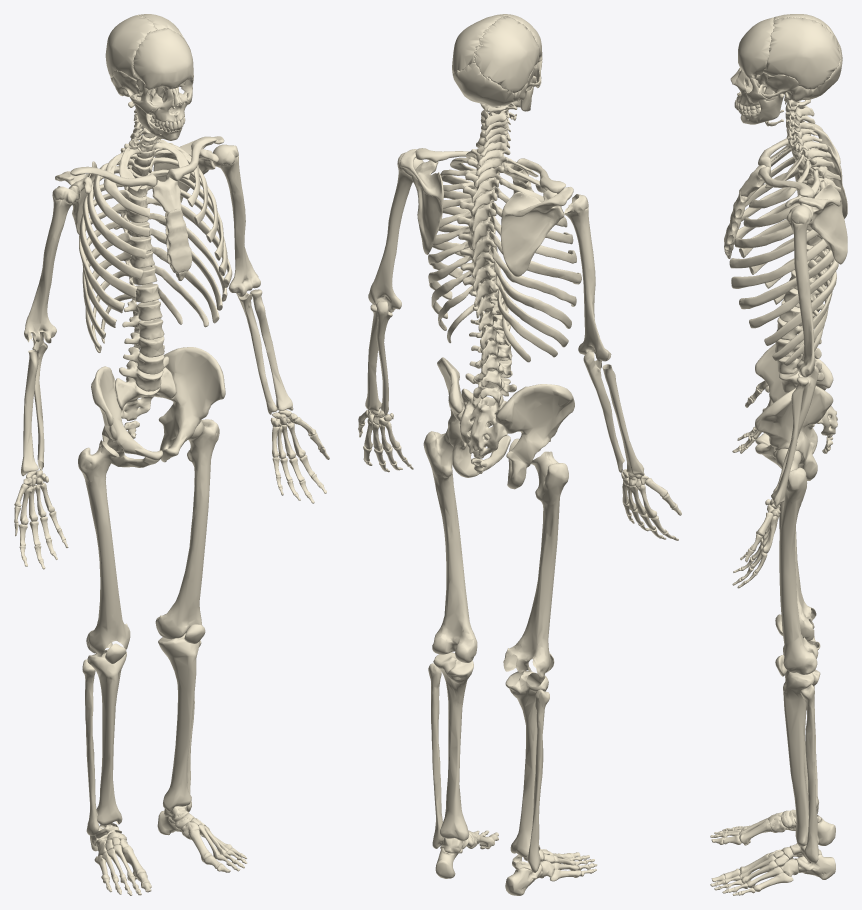
Rendered from bones.glb.
3 views of the same model, side by side, from view 1: azimuth 30°, elevation 25°; view 2: azimuth 150°, elevation 25°; view 3: azimuth 270°, elevation 25° (orthographic). The views are drawn at different scales.
Parts seen in each view (by area): view 1: bone_femur_l, bone_femur_r, bone_hip_bone_l, bone_tibia_l, bone_frontal, bone_tibia_r, bone_hip_bone_r, bone_humerus_r, bone_humerus_l, bone_parietal_r, bone_sacrum, bone_fibula_r (+19 smaller); view 2: bone_femur_l, bone_femur_r, bone_hip_bone_r, bone_scapula_r, bone_parietal_r, bone_tibia_l, bone_tibia_r, bone_humerus_r, bone_humerus_l, bone_hip_bone_l, bone_scapula_l, bone_sacrum (+15 smaller); view 3: bone_femur_l, bone_parietal_l, bone_tibia_l, bone_hip_bone_l, bone_humerus_l, bone_scapula_l, bone_fibula_l, bone_hip_bone_r, bone_frontal, bone_radius_l, bone_rib_7_l, bone_rib_6_l (+27 smaller).
Boxes of the visible parts, box(x1,y1,x2,y2) form: bone_femur_l: box(155, 419, 219, 639); bone_femur_r: box(78, 440, 130, 654); bone_hip_bone_l: box(158, 347, 225, 462); bone_tibia_l: box(158, 633, 200, 811); bone_frontal: box(133, 28, 193, 91); bone_tibia_r: box(87, 649, 126, 825); bone_hip_bone_r: box(91, 366, 162, 467); bone_humerus_r: box(24, 186, 77, 343); bone_humerus_l: box(212, 144, 260, 296); bone_parietal_r: box(105, 14, 157, 79); bone_sacrum: box(115, 367, 175, 420); bone_fibula_r: box(82, 659, 99, 835); bone_femur_l: box(423, 428, 477, 662); bone_femur_r: box(503, 451, 568, 677); bone_hip_bone_r: box(495, 384, 574, 489); bone_scapula_r: box(500, 187, 573, 276); bone_parietal_r: box(474, 16, 539, 93); bone_tibia_l: box(433, 652, 473, 840); bone_tibia_r: box(505, 671, 548, 857); bone_humerus_r: box(563, 194, 611, 361); bone_humerus_l: box(368, 152, 423, 312); bone_hip_bone_l: box(437, 357, 510, 477); bone_scapula_l: box(400, 149, 443, 254); bone_sacrum: box(459, 388, 507, 458); bone_femur_l: box(775, 448, 818, 674); bone_parietal_l: box(763, 17, 840, 89); bone_tibia_l: box(783, 669, 820, 846); bone_hip_bone_l: box(755, 386, 833, 480); bone_humerus_l: box(786, 205, 815, 377); bone_scapula_l: box(785, 183, 847, 264); bone_fibula_l: box(800, 684, 818, 863); bone_hip_bone_r: box(755, 343, 833, 453); bone_frontal: box(738, 17, 774, 78); bone_radius_l: box(771, 377, 808, 506); bone_rib_7_l: box(739, 249, 834, 309); bone_rib_6_l: box(731, 238, 827, 288).
Size of the model in its own units: 0.6693 by 1.7 by 0.2501.
